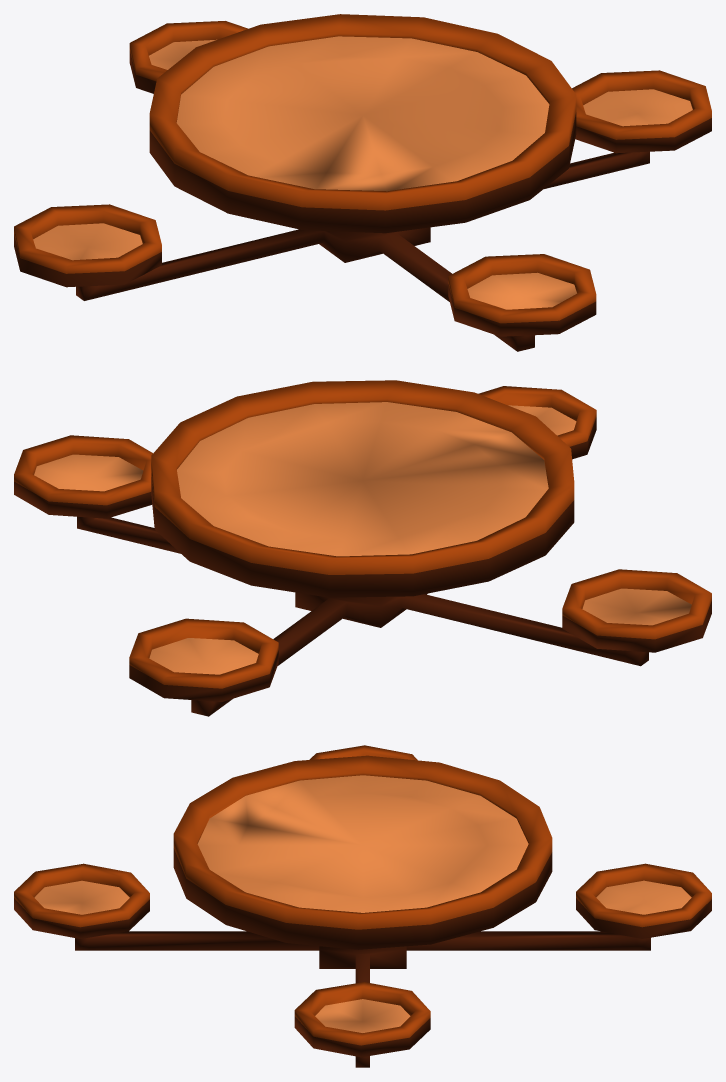
File: TableAndDesks.fbx
3 renders of one model, top to bottom at view 1: azimuth 30°, elevation 25°; view 2: azimuth 150°, elevation 25°; view 3: azimuth 270°, elevation 25°, orthographic. The views are drawn at different scales.
Visible parts, largest first — view 1: TableAndDesks; view 2: TableAndDesks; view 3: TableAndDesks.
Boxes of the visible parts, <box> form: TableAndDesks: <box>14,14,711,351</box>; TableAndDesks: <box>14,380,711,716</box>; TableAndDesks: <box>14,745,711,1067</box>.
Size of the model in its own units: 447 by 81.38 by 448.
